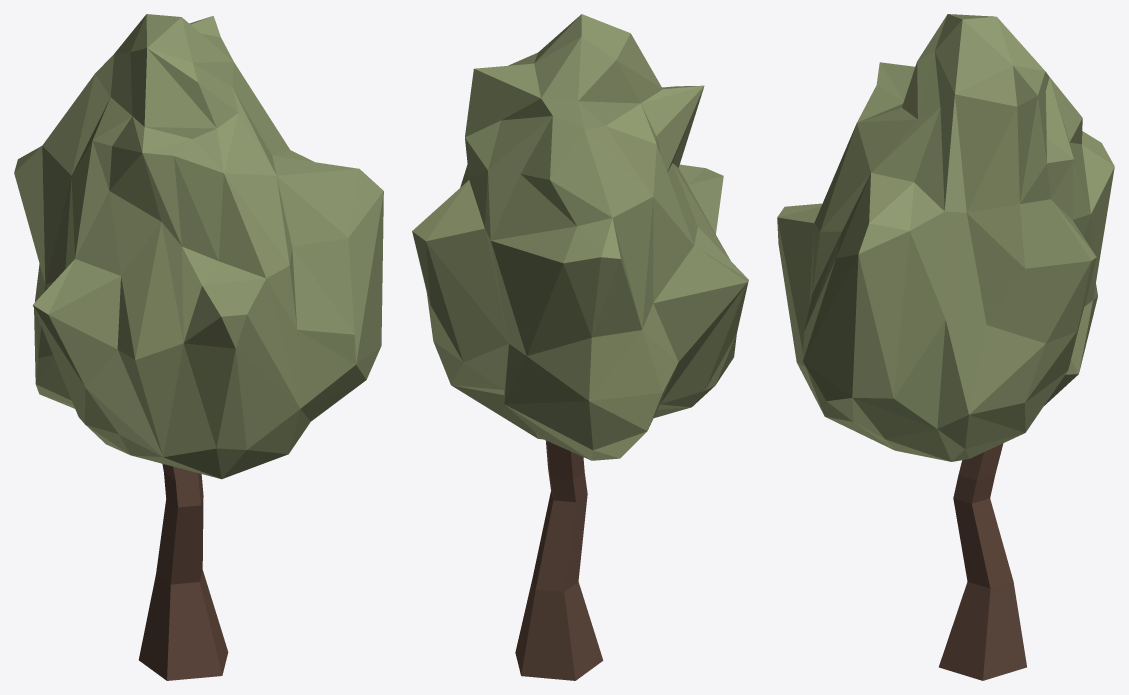
Rendered from SM_Tree_02.fbx.
3 views of the same model, side by side, from view 1: azimuth 30°, elevation 25°; view 2: azimuth 150°, elevation 25°; view 3: azimuth 270°, elevation 25° (orthographic). The views are drawn at different scales.
Visible parts, largest first — view 1: SM_Tree_02; view 2: SM_Tree_02; view 3: SM_Tree_02.
Boxes of the visible parts, x1,y1,x2,y2 form: SM_Tree_02: (14,14,383,680); SM_Tree_02: (412,14,748,680); SM_Tree_02: (777,14,1114,680).
Size of the model in its own units: 120 by 246 by 119.
Materials: 1 (1 with a texture image).
